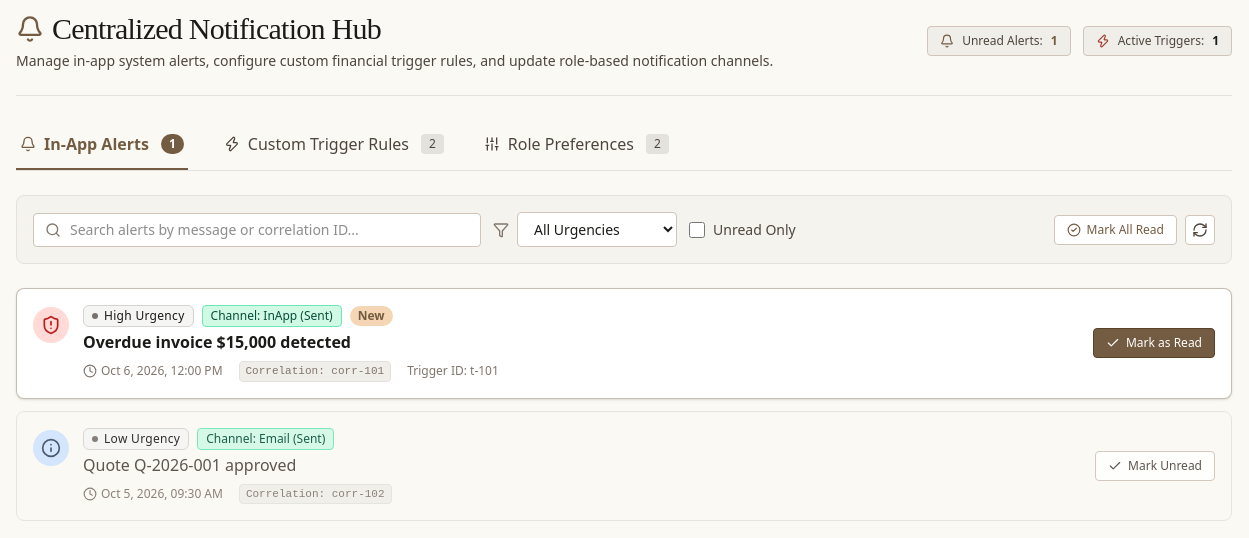
Test: NotificationHub Component [FR-5, FR-6, FR-7] › In-App Alerts Tab [FR-5] › filters notifications by unread_only
Click the checkbox with test id "unread-only-checkbox". click: (697, 230)
box: [689,222,705,238]
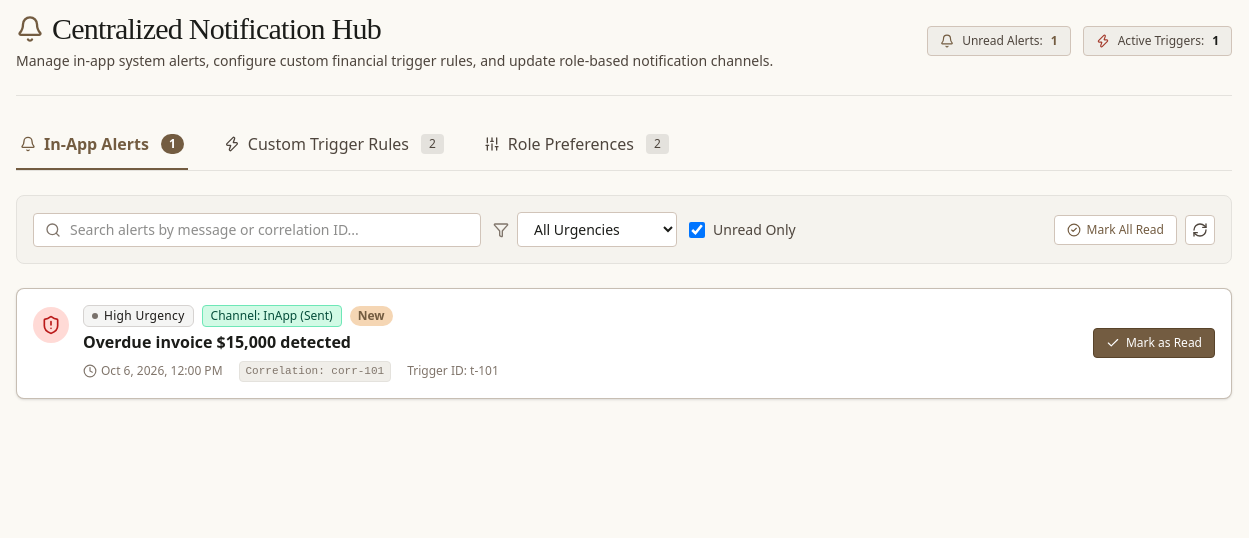
Expected: the text "Overdue invoice $15,000 detected" is shown, [83,331,351,353]
Expected: the text "Quote Q-2026-001 approved" is gone
